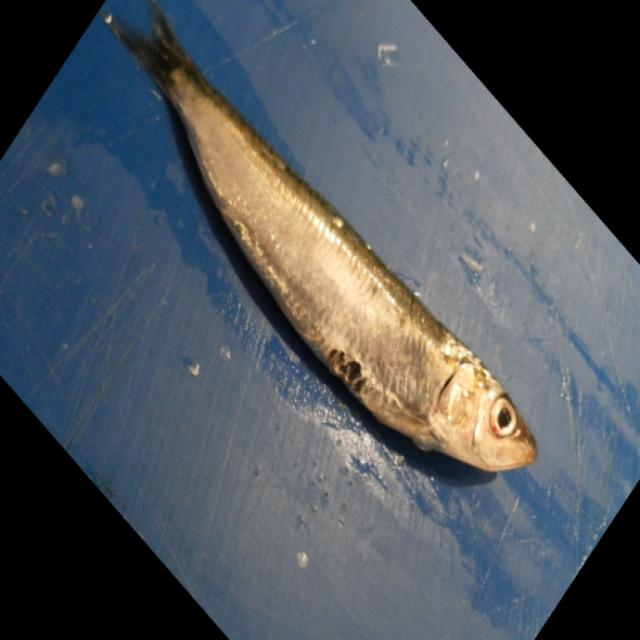Black-Sea-Sprat-tirsi-: (103, 9, 538, 475)
